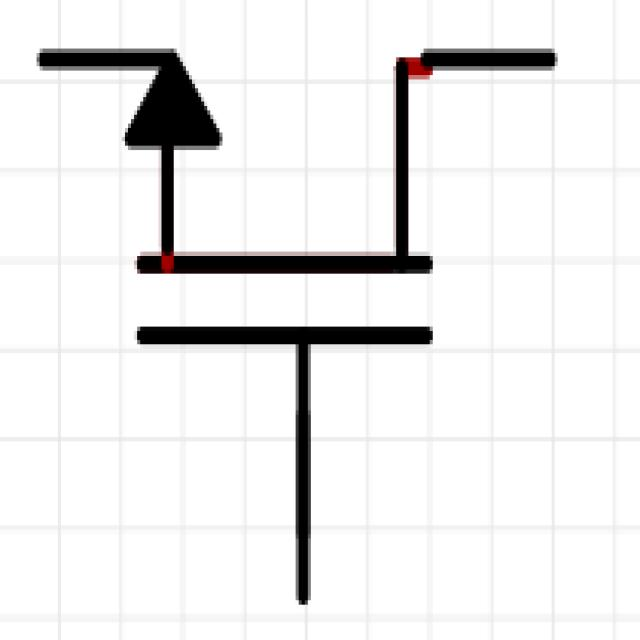nmos: (28, 14, 571, 610)
